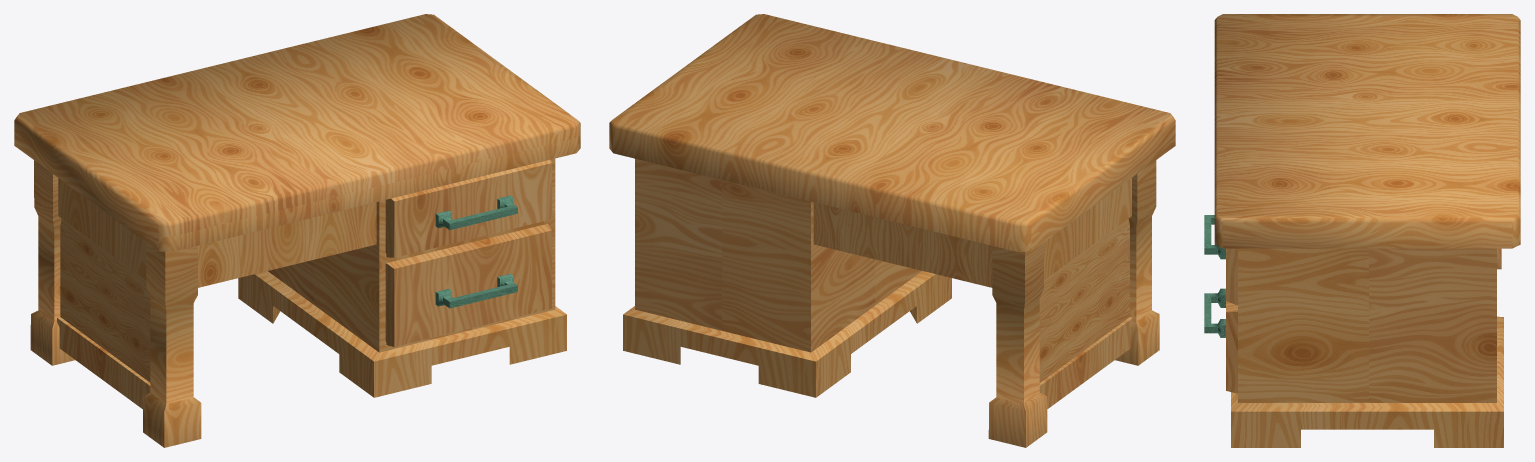
Rendered from Work_Table_Drop.fbx.
3 renders of one model, left to right at view 1: azimuth 30°, elevation 25°; view 2: azimuth 150°, elevation 25°; view 3: azimuth 270°, elevation 25°, orthographic.
Parts seen in each view (by area): view 1: Work_Table_Drop.000, Work_Table_Drop.006, Work_Table_Drop.003, Work_Table_Drop.001, Work_Table_Drop.004, Work_Table_Drop.002; view 2: Work_Table_Drop.000, Work_Table_Drop.006, Work_Table_Drop.003, Work_Table_Drop.002, Work_Table_Drop.005, Work_Table_Drop.001; view 3: Work_Table_Drop.000, Work_Table_Drop.006.
Part boxes in pixels (x1=…): Work_Table_Drop.000: x1=14, y1=14, x2=580, y2=252; Work_Table_Drop.006: x1=238, y1=158, x2=566, y2=397; Work_Table_Drop.003: x1=57, y1=178, x2=150, y2=408; Work_Table_Drop.001: x1=143, y1=242, x2=201, y2=447; Work_Table_Drop.004: x1=198, y1=202, x2=376, y2=287; Work_Table_Drop.002: x1=30, y1=160, x2=75, y2=365; Work_Table_Drop.000: x1=609, y1=14, x2=1175, y2=252; Work_Table_Drop.006: x1=623, y1=158, x2=951, y2=397; Work_Table_Drop.003: x1=1039, y1=178, x2=1133, y2=408; Work_Table_Drop.002: x1=988, y1=242, x2=1047, y2=447; Work_Table_Drop.005: x1=813, y1=202, x2=992, y2=287; Work_Table_Drop.001: x1=1115, y1=160, x2=1159, y2=365; Work_Table_Drop.000: x1=1214, y1=14, x2=1520, y2=248; Work_Table_Drop.006: x1=1204, y1=215, x2=1503, y2=447.
Size of the model in its own units: 135 by 70.94 by 87.24.
